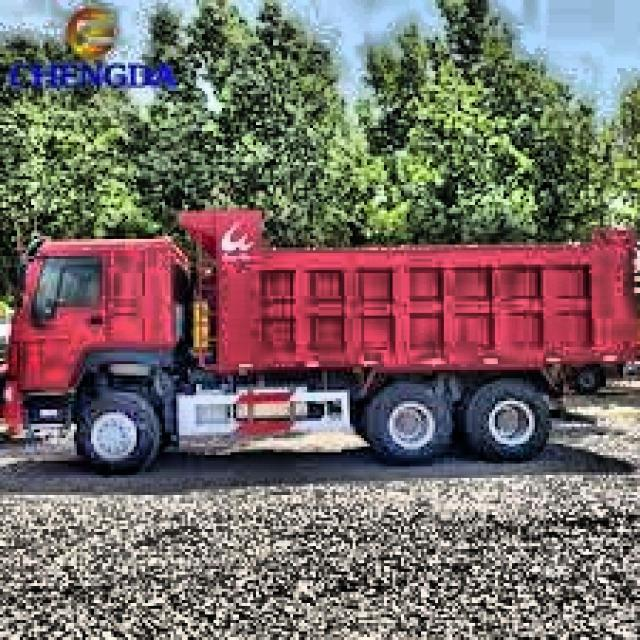dump_truck: (1, 210, 640, 462)
